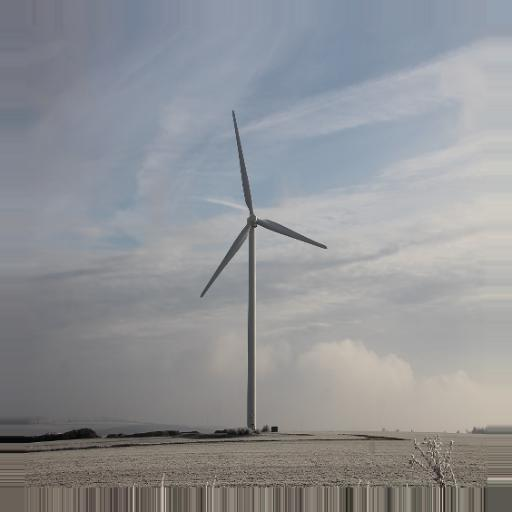wind turbine: (199, 109, 328, 425)
